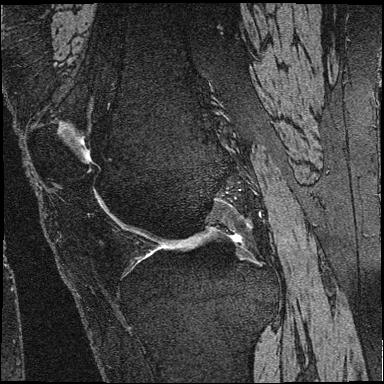SagKneeJointArea: (25, 119, 281, 309)
